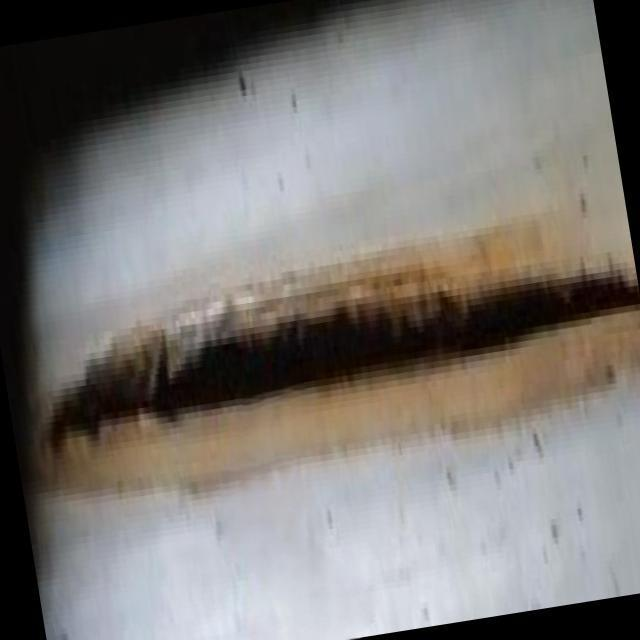Tear: (41, 270, 640, 466)
